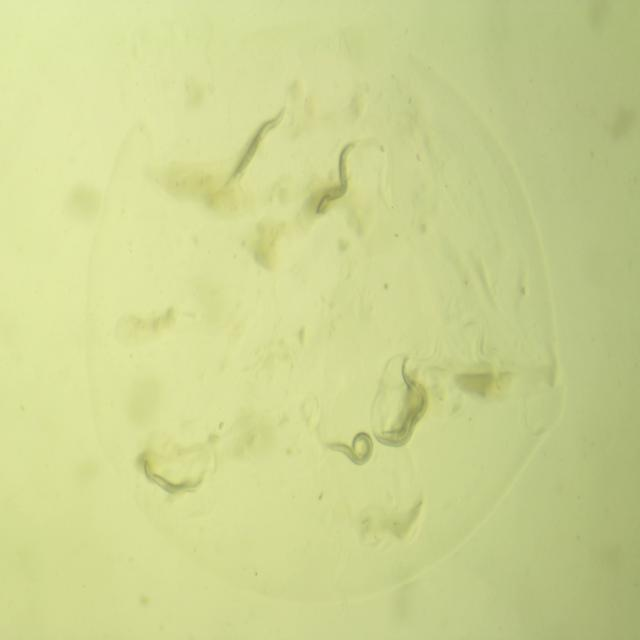worm: (219, 99, 295, 199), (310, 131, 372, 214), (373, 377, 435, 452), (380, 354, 424, 443), (136, 455, 212, 506), (319, 421, 379, 472)
